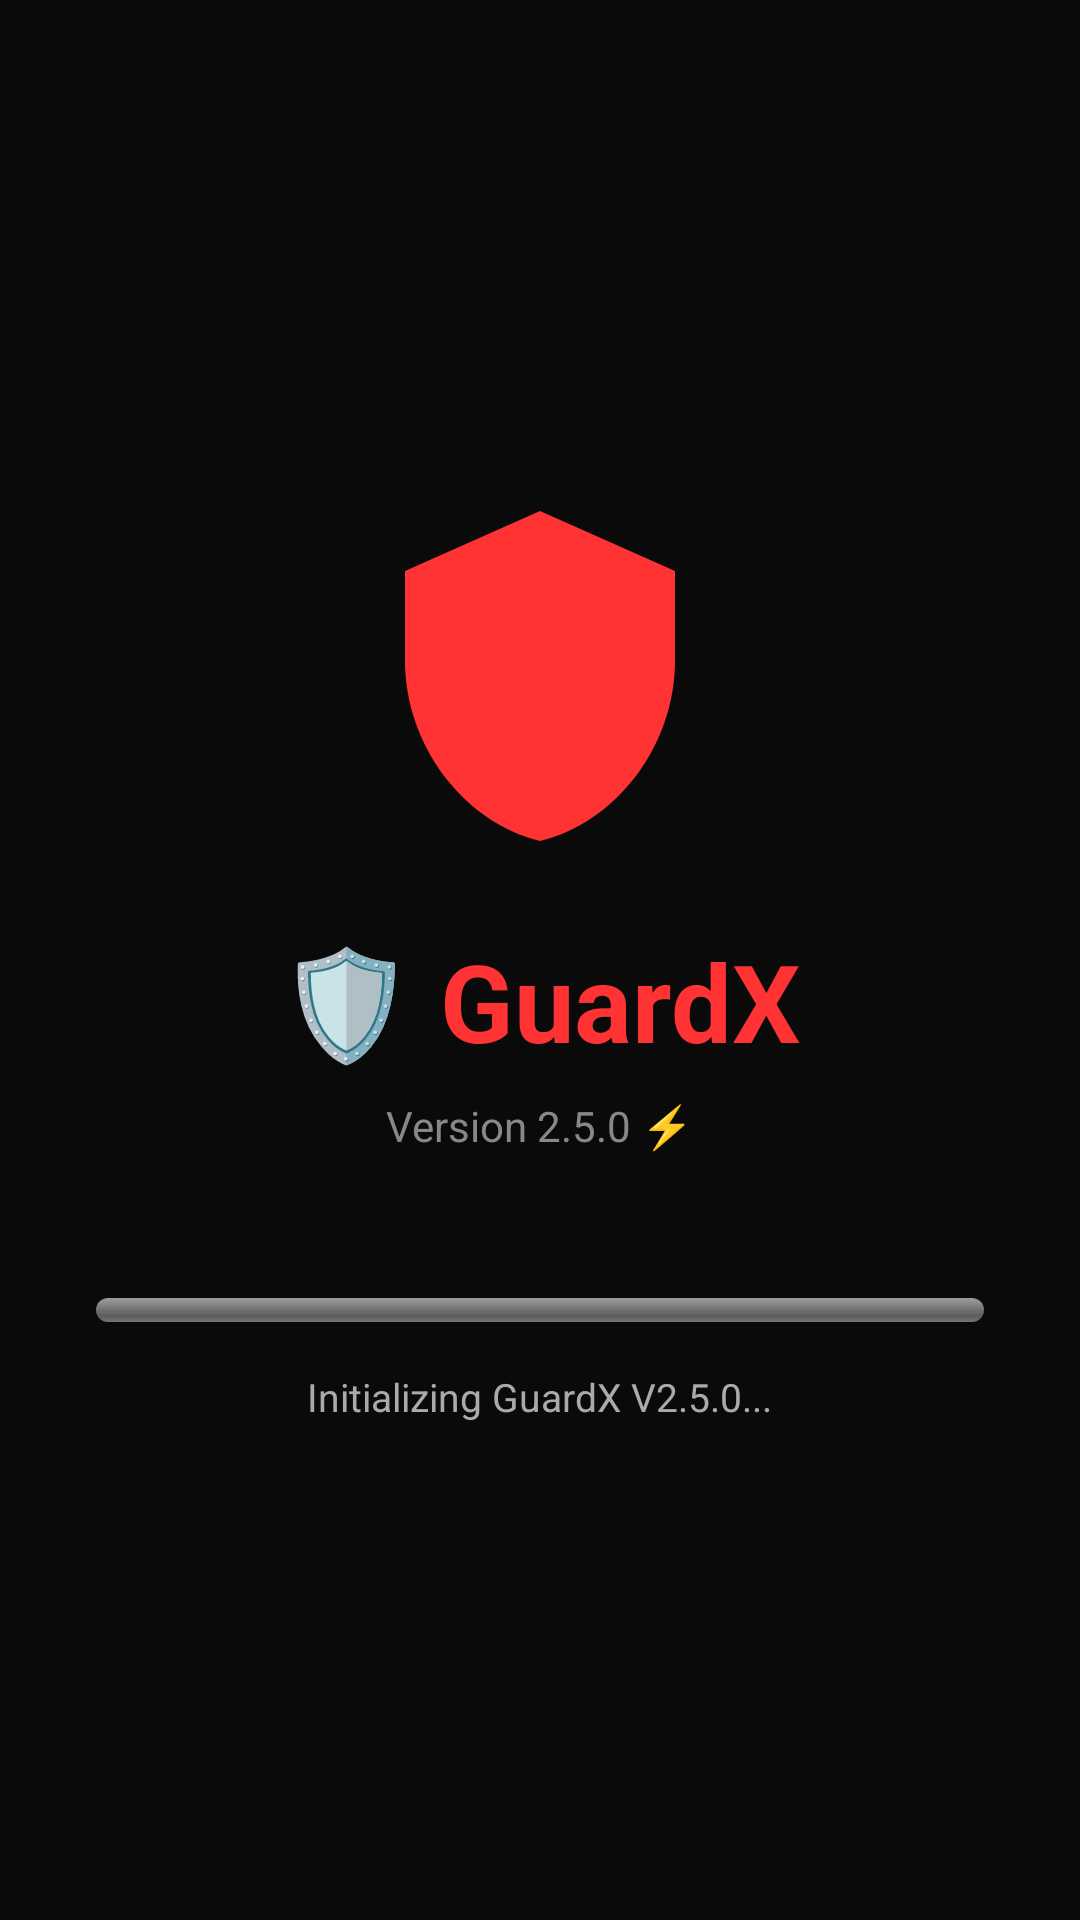

Icon click points for this 1080×1920 phone screenshot, format point (x, y):
shield: point (540, 676)
